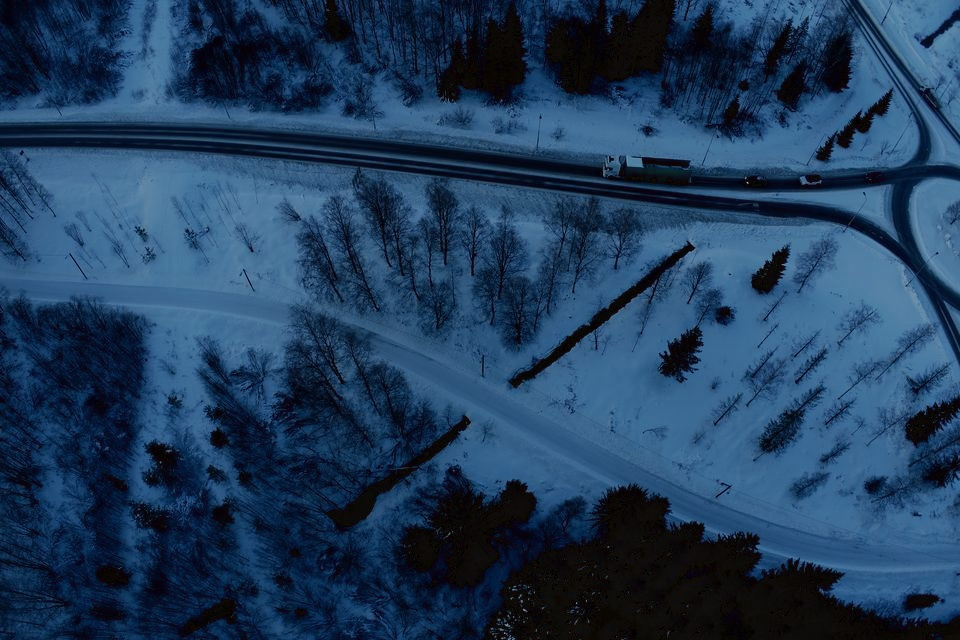roundabout: (856, 120, 960, 336)
